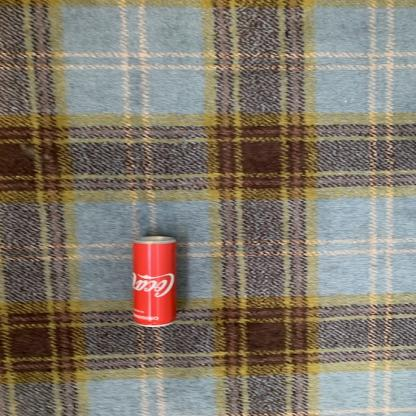trash: (132, 238, 180, 327)
